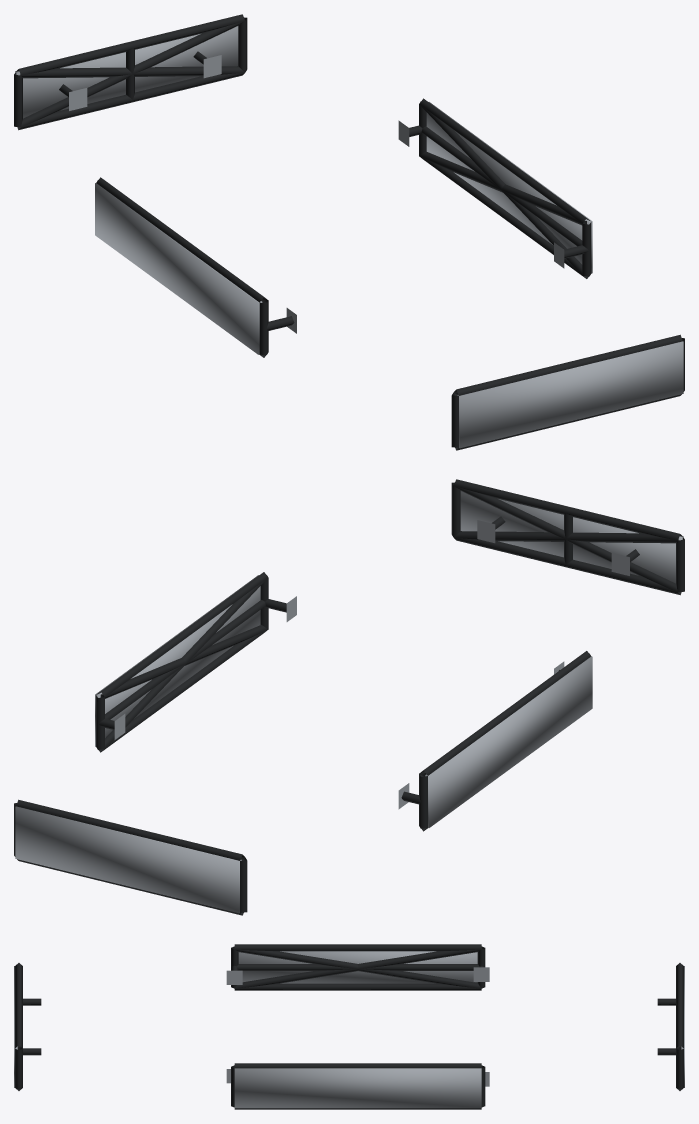
File: garrison_facao_protecao.glb
3 renders of one model, top to bottom at view 1: azimuth 30°, elevation 25°; view 2: azimuth 150°, elevation 25°; view 3: azimuth 270°, elevation 25°, orthographic. The views are drawn at different scales.
Parts seen in each view (by area): view 1: Protection_front_Level3_Details, Protection_left_Level3_Details, Protection_rear_Level1_Details, Protection_rear_Level3_Details, Protection_right_Level1_Details, Protection_right_Level2_Details, Protection_rear_Level2_Details, Protection_right_Level3_Details, Protection_front_Level1_Details, Protection_left_Level1_Details; view 2: Protection_rear_Level3_Details, Protection_left_Level3_Details, Protection_front_Level1_Details, Protection_front_Level3_Details, Protection_right_Level1_Details, Protection_right_Level2_Details, Protection_front_Level2_Details, Protection_right_Level3_Details, Protection_rear_Level1_Details, Protection_left_Level1_Details; view 3: Protection_right_Level3_Details, Protection_left_Level2_Details, Protection_left_Level1_Details, Protection_left_Level3_Details, Protection_right_Level1_Details, Protection_rear_Level1_Details, Protection_front_Level1_Details.
Boxes of the visible parts, x1,y1,x2,y2 form: Protection_front_Level3_Details: (457,341,683,448); Protection_left_Level3_Details: (95,183,262,354); Protection_rear_Level1_Details: (14,14,247,130); Protection_rear_Level3_Details: (15,26,238,118); Protection_right_Level1_Details: (398,98,591,278); Protection_right_Level2_Details: (419,105,589,278); Protection_rear_Level2_Details: (16,21,244,129); Protection_right_Level3_Details: (426,102,592,273); Protection_front_Level1_Details: (451,334,684,450); Protection_left_Level1_Details: (96,177,296,357); Protection_rear_Level3_Details: (15,806,241,913); Protection_left_Level3_Details: (425,656,592,827); Protection_front_Level1_Details: (451,479,684,595); Protection_front_Level3_Details: (460,491,683,583); Protection_right_Level1_Details: (96,572,296,752); Protection_right_Level2_Details: (96,578,267,751); Protection_front_Level2_Details: (454,486,682,594); Protection_right_Level3_Details: (95,575,260,746); Protection_rear_Level1_Details: (14,799,247,915); Protection_left_Level1_Details: (398,651,591,831); Protection_right_Level3_Details: (234,1068,481,1108); Protection_left_Level2_Details: (234,948,481,988); Protection_left_Level1_Details: (226,944,489,990); Protection_left_Level3_Details: (238,951,477,983); Protection_right_Level1_Details: (226,1063,489,1109); Protection_rear_Level1_Details: (657,963,683,1090); Protection_front_Level1_Details: (15,963,41,1090).
Size of the model in its own units: 2.02 by 0.354 by 4.65.
Materials: 1 (1 with a texture image).
